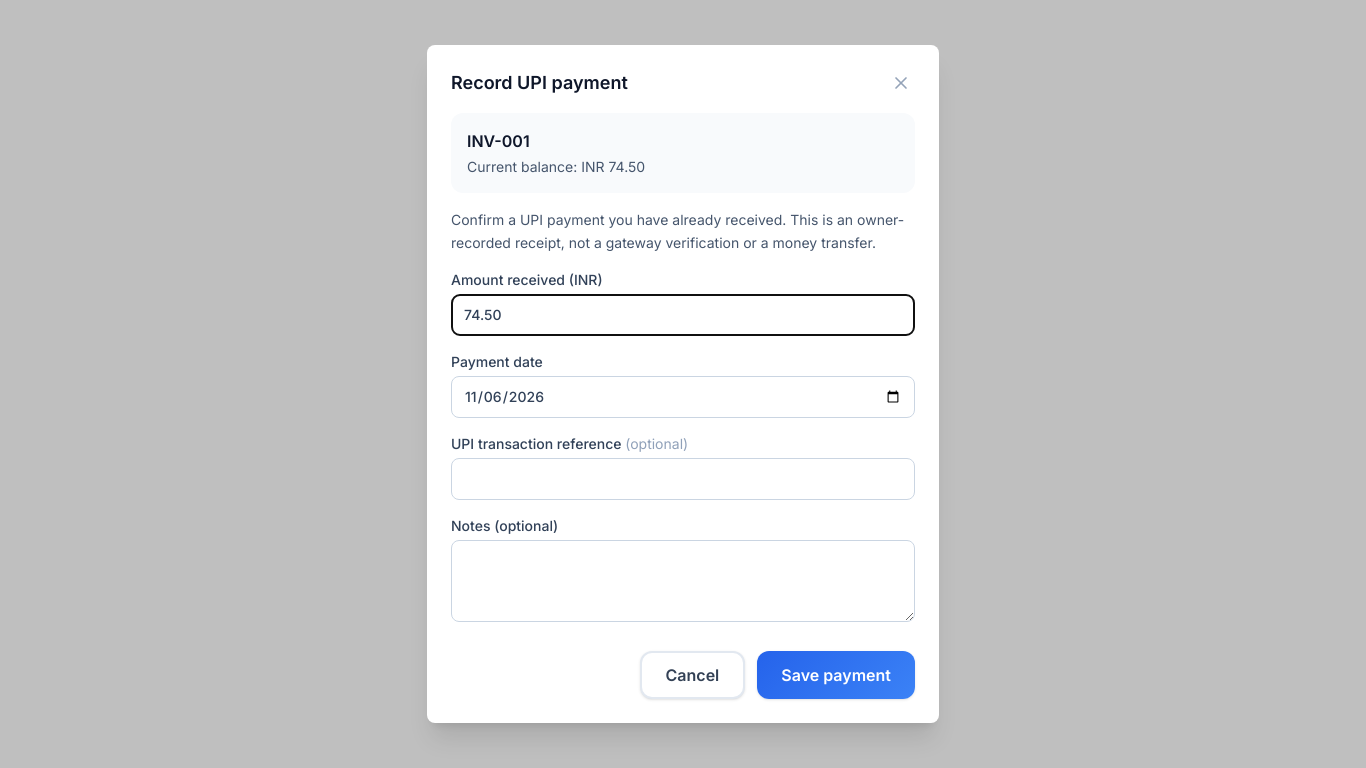
it: Payment forms › rejects invalid INR input 0
This screenshot has width=1366, height=768.
Replace the text in the field labelled "Amount received (INR)" with "0" at (683, 315), box [451,294,915,336]
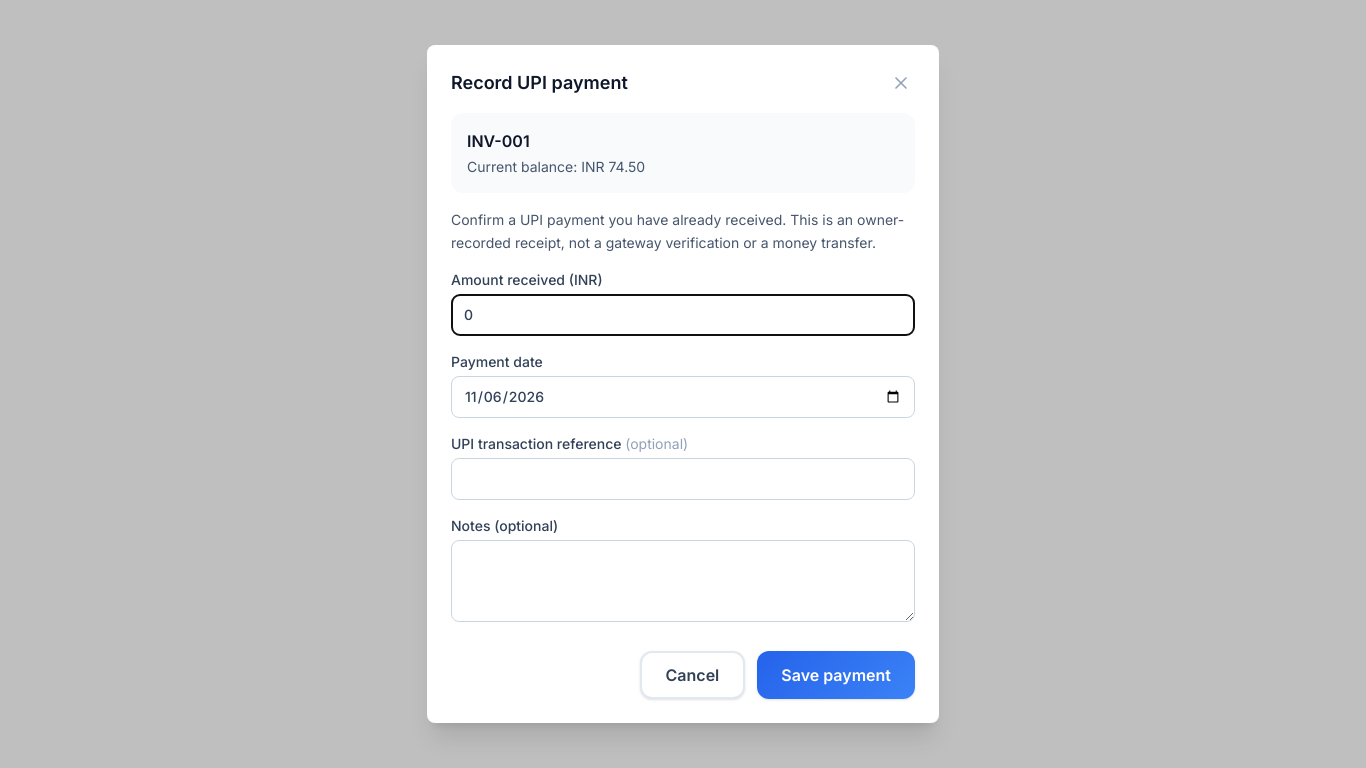
Click the button "Save payment" at (836, 675), box [757,651,915,699]
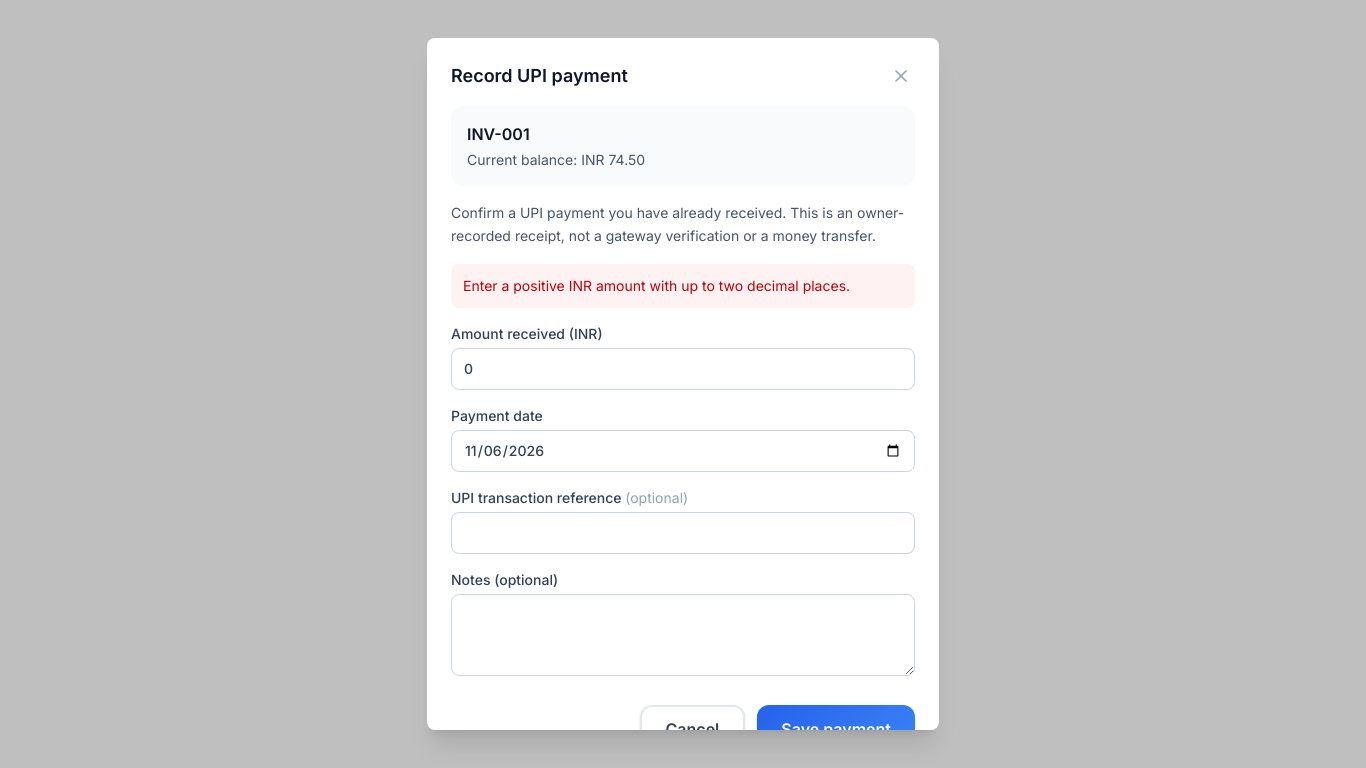
Expected: the message shows "positive INR amount", [463,277,850,294]
